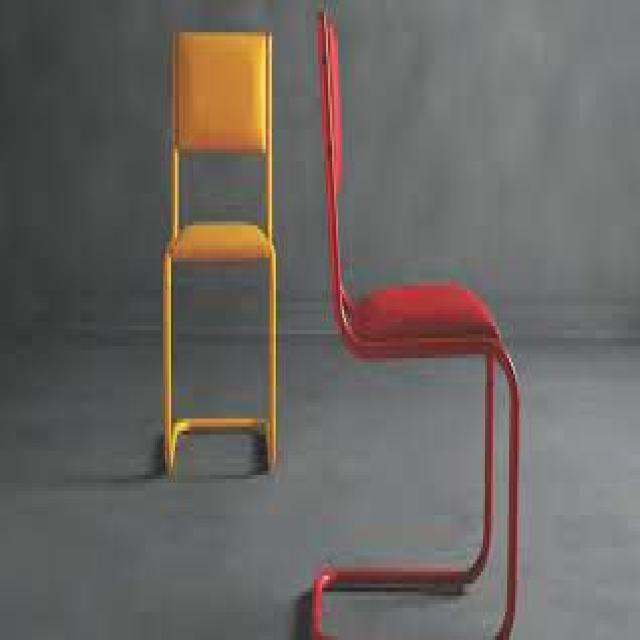chair: (294, 0, 580, 640), (134, 0, 295, 515)
